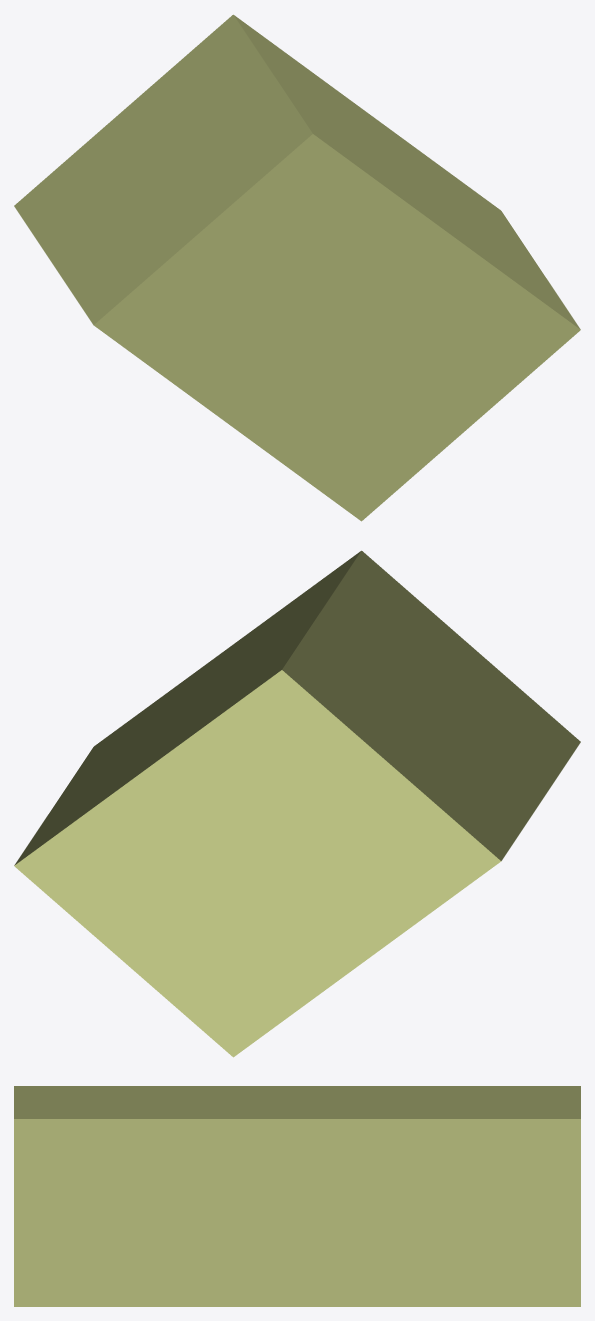
3 views of the same model, one above another, from view 1: azimuth 30°, elevation 25°; view 2: azimuth 150°, elevation 25°; view 3: azimuth 270°, elevation 25° (orthographic). The views are drawn at different scales.
Parts seen in each view (by area): view 1: 0_1_1_3_2_2_3_3_1_3_1; view 2: 0_1_1_3_2_2_3_3_1_3_1; view 3: 0_1_1_3_2_2_3_3_1_3_1.
Part boxes in pixels (left/top/right/bottom): 0_1_1_3_2_2_3_3_1_3_1: left=14, top=14, right=580, bottom=521; 0_1_1_3_2_2_3_3_1_3_1: left=14, top=550, right=580, bottom=1057; 0_1_1_3_2_2_3_3_1_3_1: left=14, top=1086, right=580, bottom=1306.
Bounding box in the file's own units: 5.8 × 5.13 × 9.
